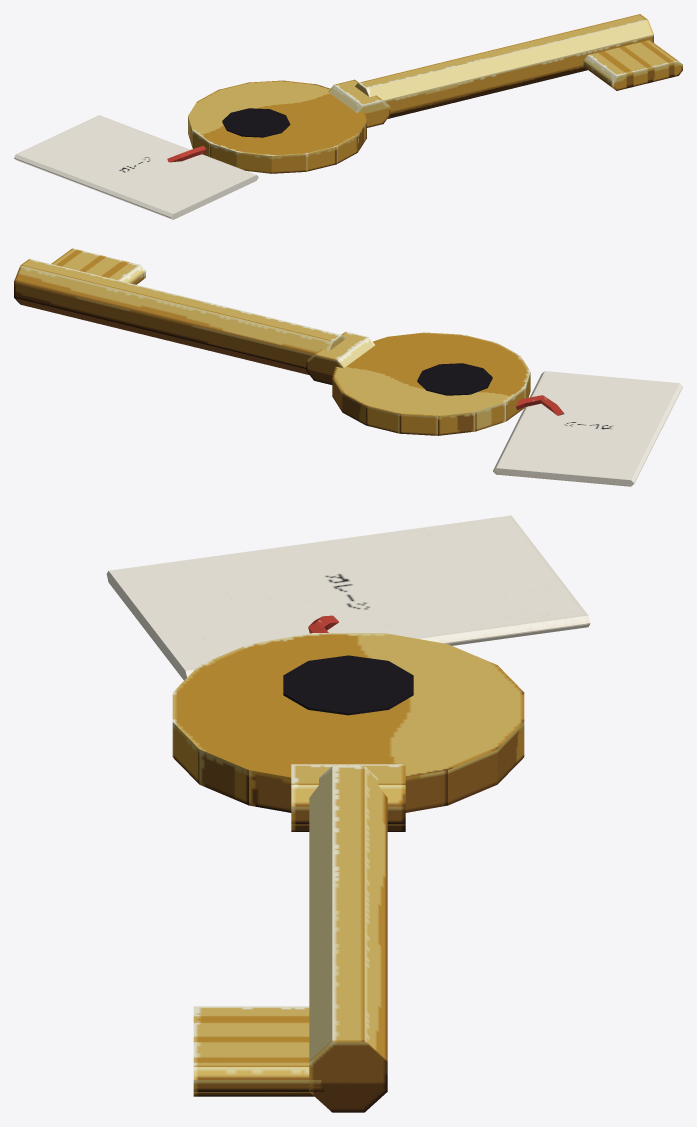
The model's file is key.glb.
3 views of the same model, one above another, from view 1: azimuth 30°, elevation 25°; view 2: azimuth 150°, elevation 25°; view 3: azimuth 270°, elevation 25° (orthographic). The views are drawn at different scales.
Parts seen in each view (by area): view 1: body; view 2: body; view 3: body.
Boxes of the visible parts, bbox=[...] form: body: bbox=[14, 14, 682, 219]; body: bbox=[14, 248, 682, 486]; body: bbox=[106, 515, 590, 1112].
Bounding box in the file's own units: 0.0836 × 0.00481 × 0.0297.
Materials: 2 (2 with a texture image).
